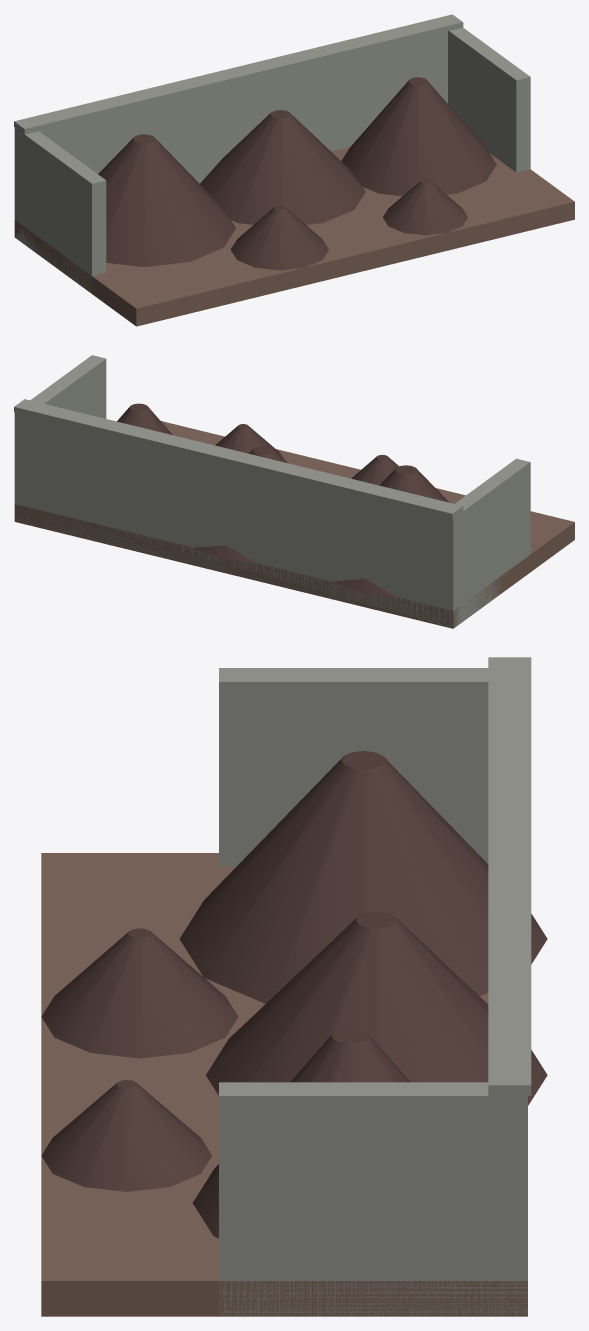
Rendered from mashup-ore-mid-prebuilt.fbx.
The picture shows the model from 3 angles, top to bottom: view 1: azimuth 30°, elevation 25°; view 2: azimuth 150°, elevation 25°; view 3: azimuth 270°, elevation 25°; orthographic projection. The views are drawn at different scales.
Visible parts, largest first — view 1: a1023.Ore; view 2: a1023.Ore; view 3: a1023.Ore.
Boxes of the visible parts, box(x1,y1,x2,y2) form: a1023.Ore: box(14, 14, 574, 326); a1023.Ore: box(14, 355, 574, 628); a1023.Ore: box(41, 657, 547, 1316).
Size of the model in its own units: 15.4 by 3.88 by 7.7.
